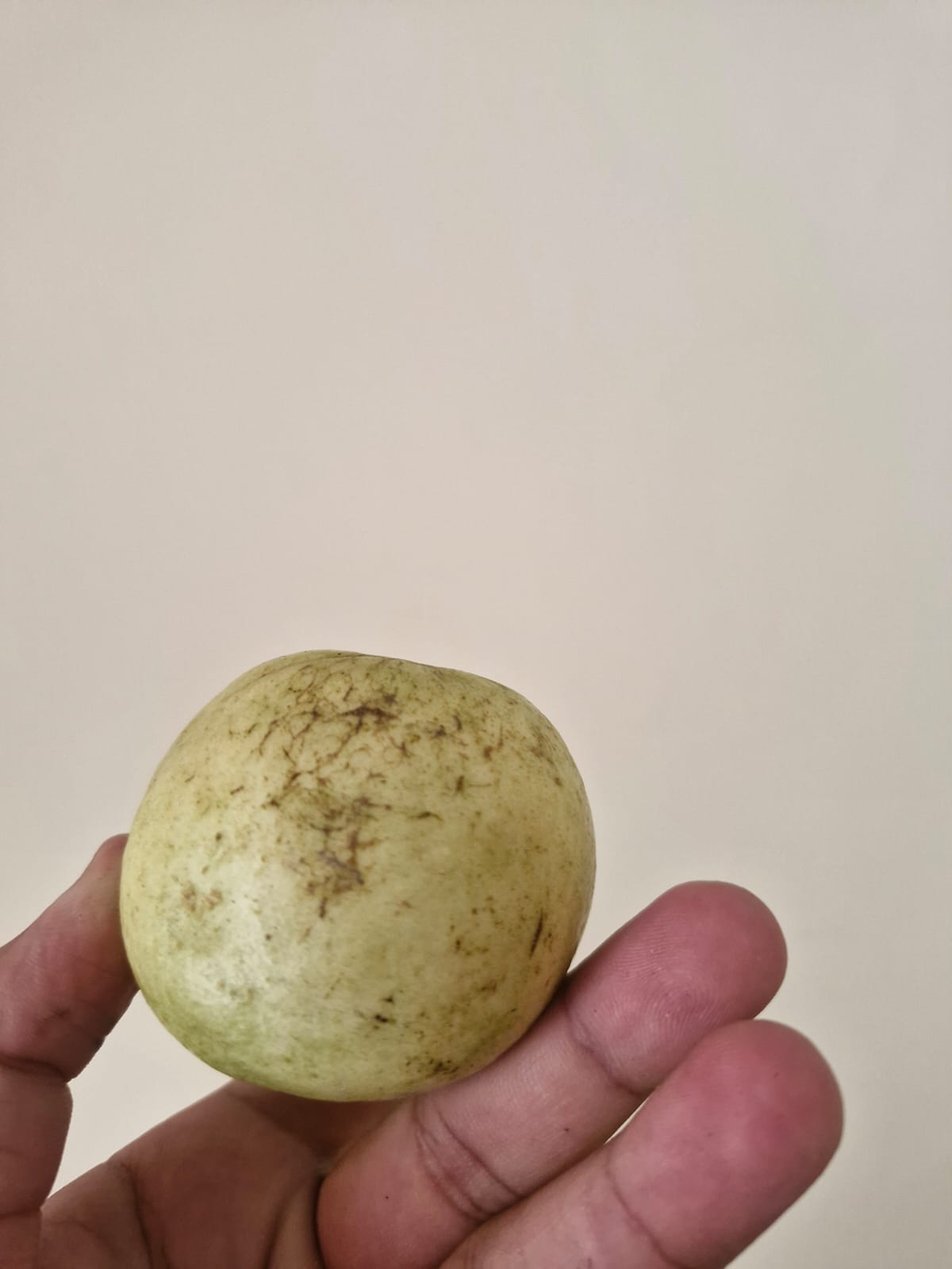guava: (111, 25, 922, 1053)
